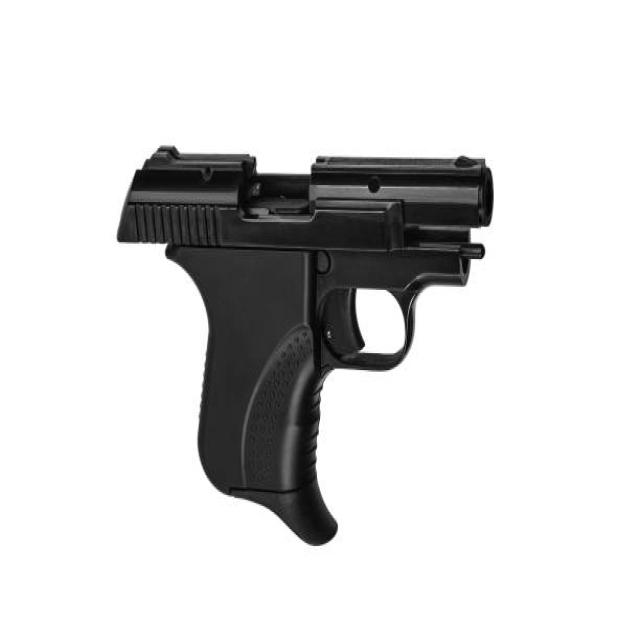pistol: (107, 131, 497, 550)
